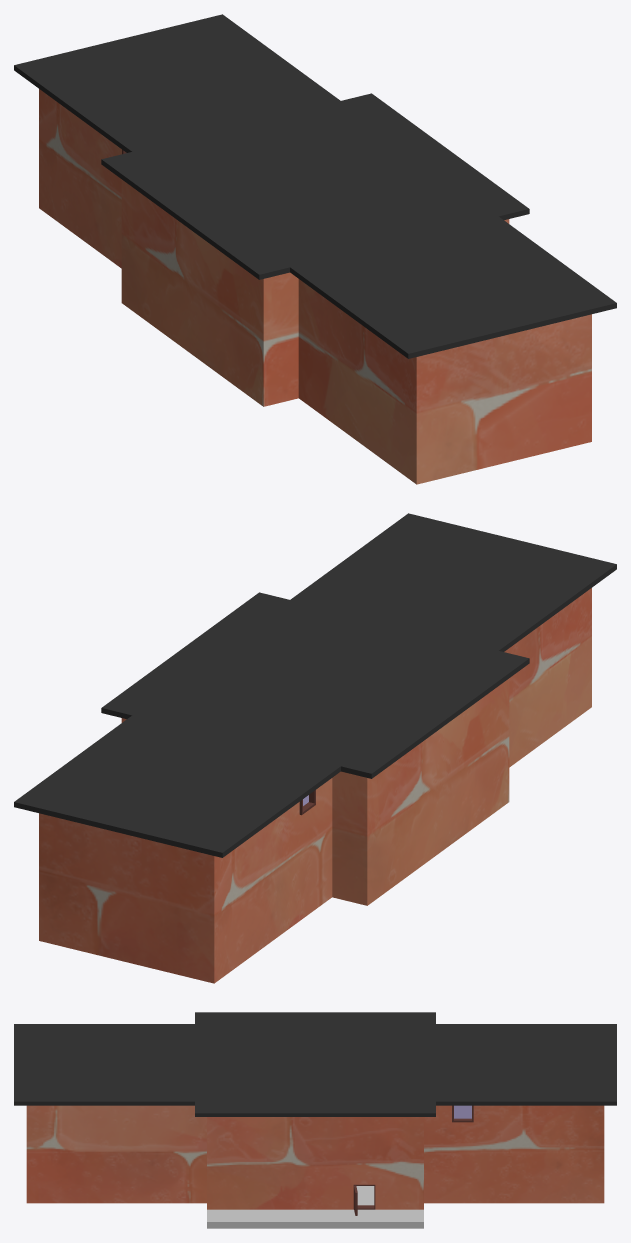
The model's file is apartment_inside.fbx.
3 views of the same model, one above another, from view 1: azimuth 30°, elevation 25°; view 2: azimuth 150°, elevation 25°; view 3: azimuth 270°, elevation 25° (orthographic). The views are drawn at different scales.
Parts seen in each view (by area): view 1: Cube.003, Cube; view 2: Cube.003, Cube; view 3: Cube, Cube.003, Cube.002.
Boxes of the visible parts, bbox=[...] form: Cube.003: bbox=[14, 14, 616, 358]; Cube: bbox=[39, 89, 591, 484]; Cube.003: bbox=[14, 513, 616, 857]; Cube: bbox=[39, 588, 591, 983]; Cube: bbox=[26, 1105, 604, 1228]; Cube.003: bbox=[14, 1012, 616, 1116]; Cube.002: bbox=[452, 1105, 473, 1122].
Size of the model in its own units: 2369 by 1096 by 5560.
